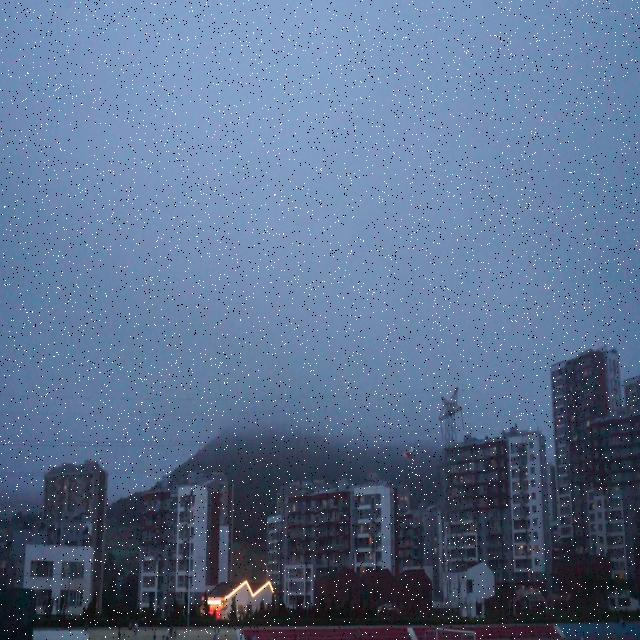UAV: (403, 447, 416, 463)
